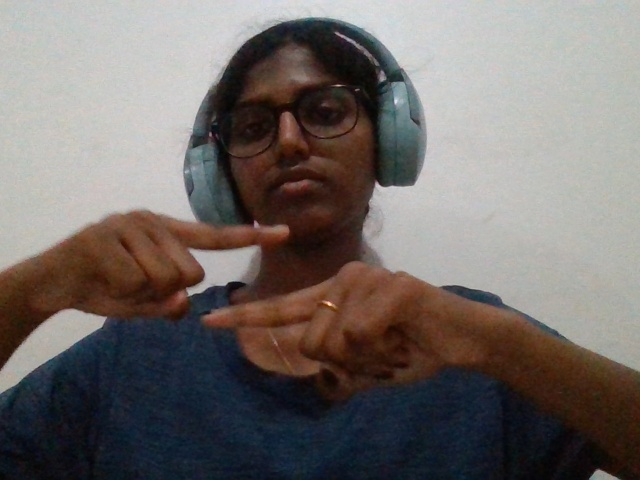Sign: (3, 149, 566, 440)
